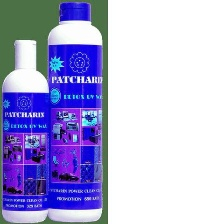cleaning_solution: (45, 0, 105, 224), (0, 37, 52, 224)
